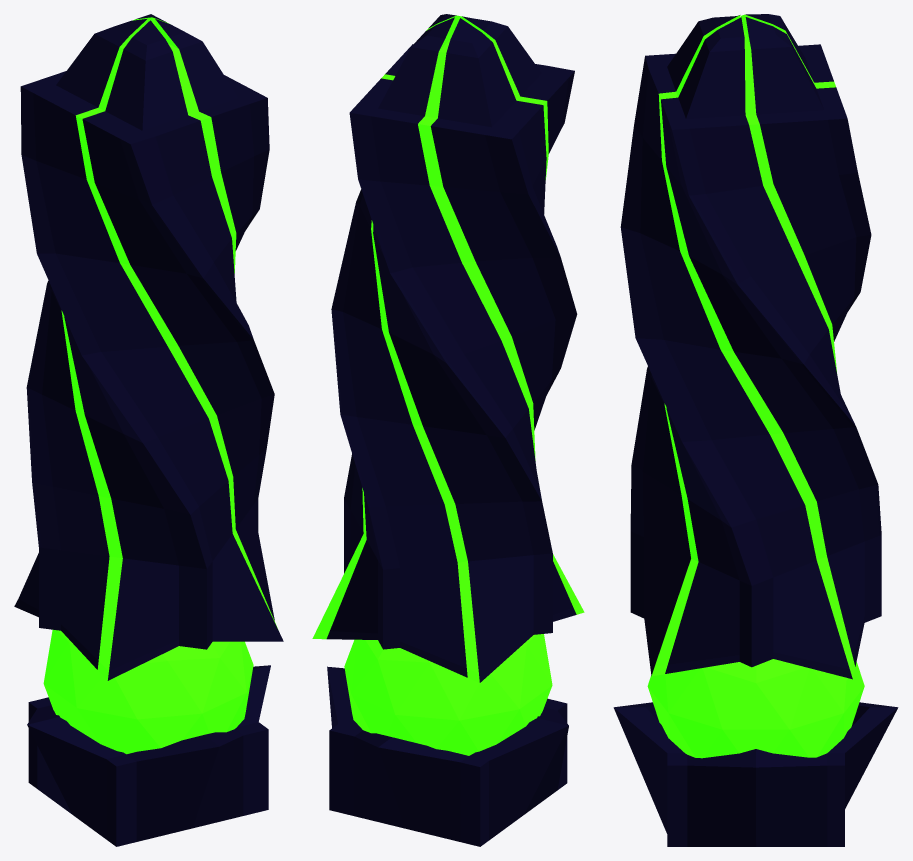
File: Tower.fbx
The picture shows the model from 3 angles, left to right: view 1: azimuth 30°, elevation 25°; view 2: azimuth 150°, elevation 25°; view 3: azimuth 270°, elevation 25°; orthographic projection. The views are drawn at different scales.
Parts seen in each view (by area): view 1: Cube.001, Cube, Icosphere; view 2: Cube.001, Cube, Icosphere; view 3: Cube.001, Cube, Icosphere.
Boxes of the visible parts, bbox=[...] form: Cube.001: bbox=[14, 14, 283, 680]; Cube: bbox=[27, 665, 270, 846]; Icosphere: bbox=[43, 629, 253, 754]; Cube.001: bbox=[312, 14, 584, 682]; Cube: bbox=[327, 666, 568, 846]; Icosphere: bbox=[344, 634, 552, 755]; Cube.001: bbox=[620, 14, 881, 679]; Cube: bbox=[613, 702, 898, 846]; Icosphere: bbox=[647, 659, 864, 758].
Bounding box in the file's own units: 540 × 1655 × 540.
